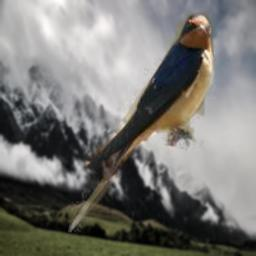Swallow: (68, 12, 216, 233)
